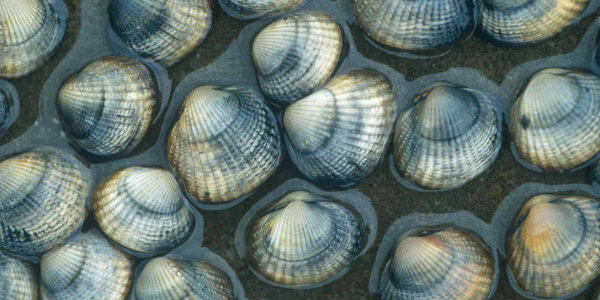cockle: (164, 83, 286, 209), (277, 63, 397, 188), (239, 187, 369, 290), (390, 78, 502, 194), (56, 53, 160, 159), (508, 188, 600, 299), (508, 67, 598, 175), (2, 148, 91, 257), (375, 226, 502, 300), (248, 10, 345, 106), (92, 164, 195, 253), (346, 1, 477, 58), (103, 1, 216, 65), (36, 231, 134, 300), (1, 1, 68, 77), (476, 1, 591, 45), (131, 256, 238, 300), (213, 1, 309, 18), (1, 83, 21, 142)
